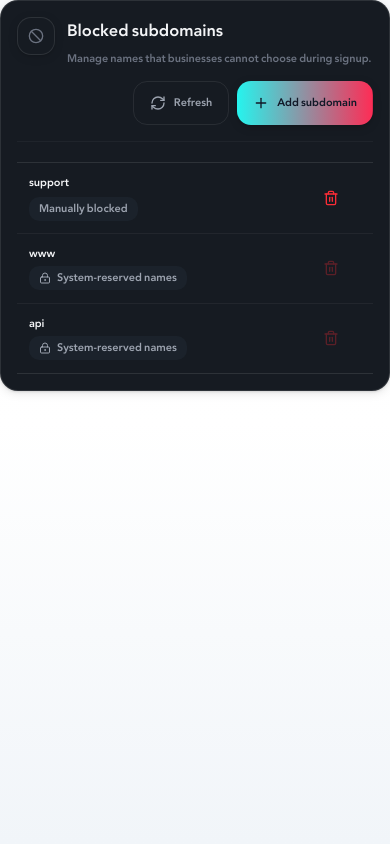
Test case: blocked subdomain settings › keeps the manual name visible when deletion fails
The width and height of the screenshot is (390, 844).
Click the button named "Delete: support" at {"x": 339, "y": 198}, box [317,176,361,220]
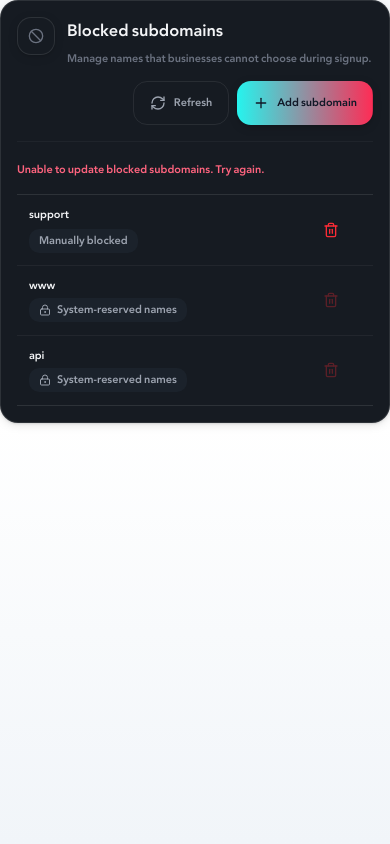
Expected: the button named "Delete: support" is enabled, [317,208,361,252]
Now the message shows "Unable to update", box [17,160,264,178]
